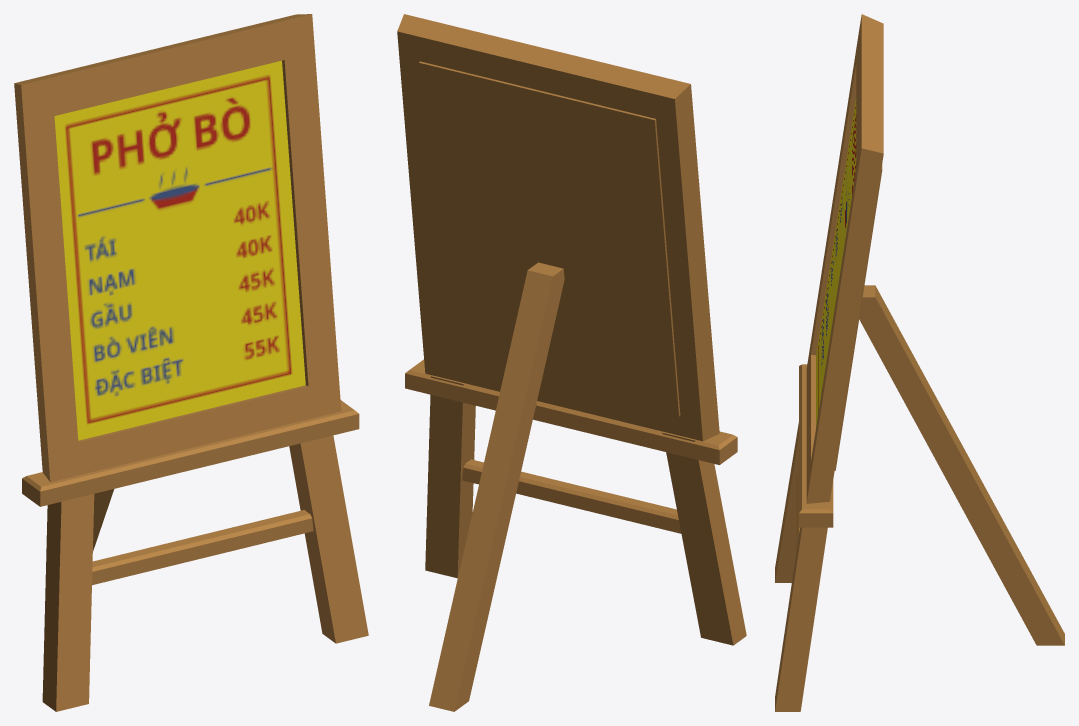
Rendered from SM_Sign_MenuEasel_PhoBo_01.fbx.
3 renders of one model, left to right at view 1: azimuth 30°, elevation 25°; view 2: azimuth 150°, elevation 25°; view 3: azimuth 270°, elevation 25°, orthographic. The views are drawn at different scales.
Visible parts, largest first — view 1: SM_Sign_MenuEasel_PhoBo_01; view 2: SM_Sign_MenuEasel_PhoBo_01; view 3: SM_Sign_MenuEasel_PhoBo_01.
Boxes of the visible parts, <box> form: SM_Sign_MenuEasel_PhoBo_01: <box>14,14,368,711</box>; SM_Sign_MenuEasel_PhoBo_01: <box>397,14,746,711</box>; SM_Sign_MenuEasel_PhoBo_01: <box>775,14,1064,711</box>.
Size of the model in its own units: 0.68 by 1.2 by 0.5654.
1 material, 1 textured.
